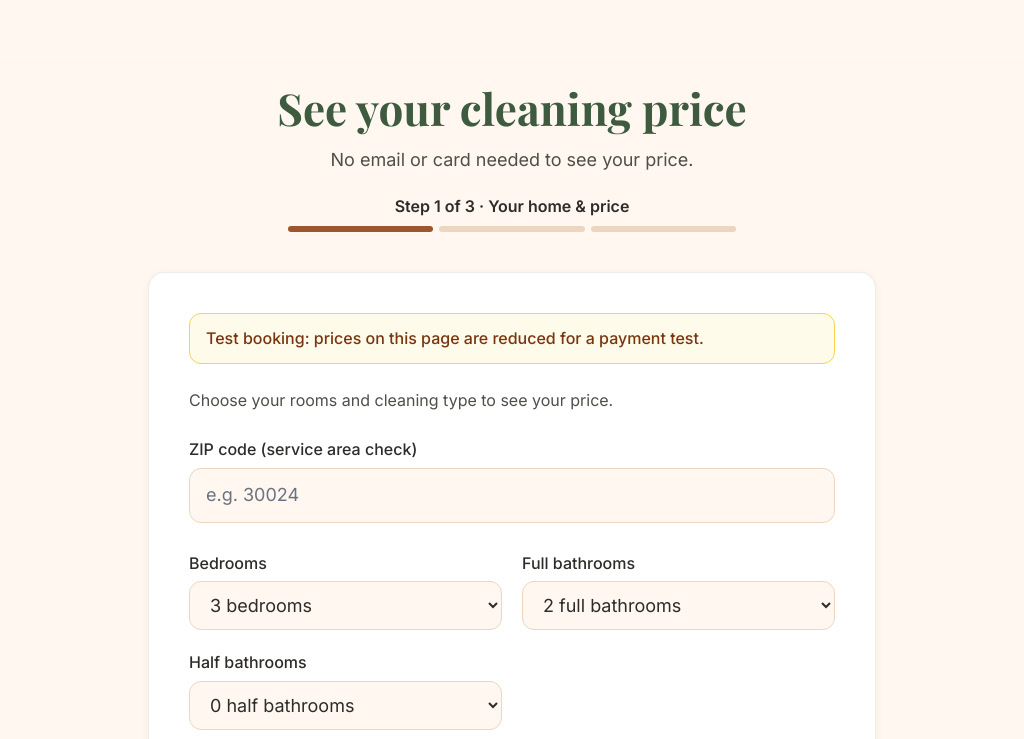
Test case: group 1(b): quote summary lines › singular home line reads '1 bedroom · 1 full bathroom'
Later steps or results of the test are not shown.
Type "30024" into the field labelled "ZIP code (service area check)" at (512, 495), box [189, 468, 835, 523]
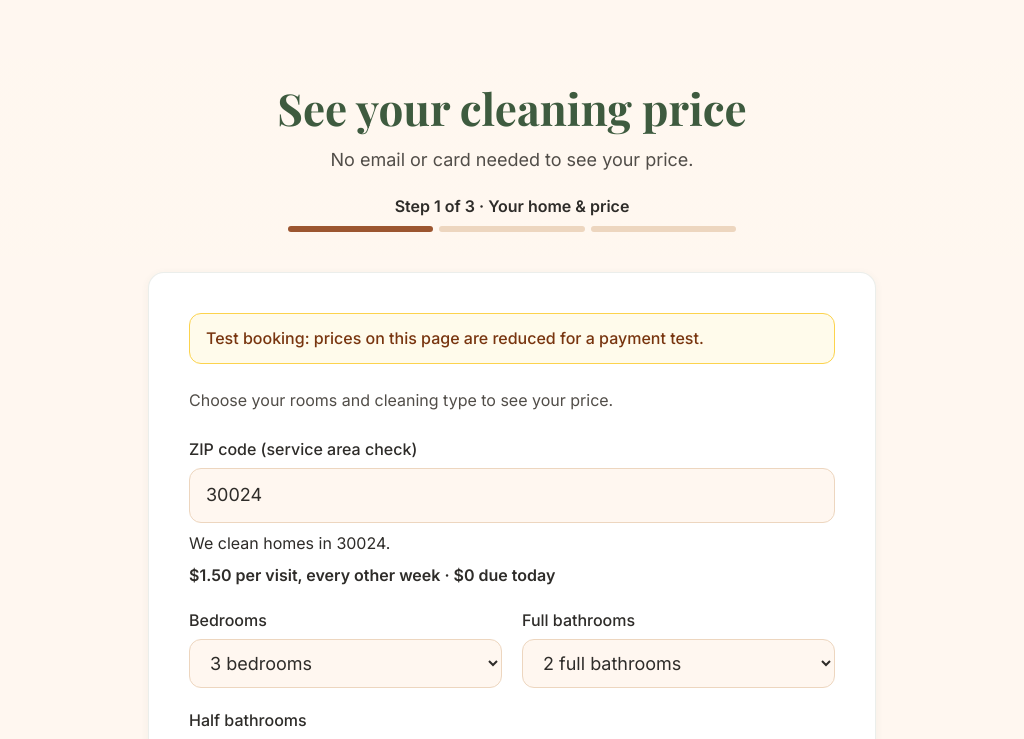
Select "1 bedroom" in the dropdown labelled "Bedrooms" at (346, 664), box [189, 639, 502, 688]
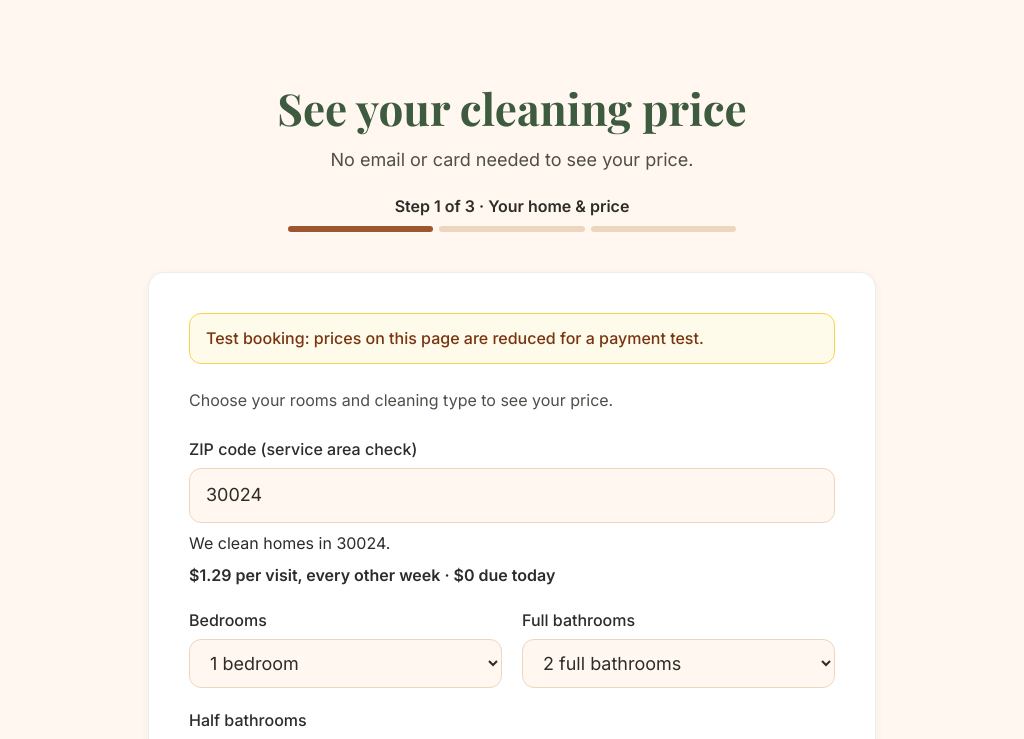
Select "1 full bathroom" in the dropdown labelled "Full bathrooms" at (678, 664), box [522, 639, 835, 688]
(page scrolled)
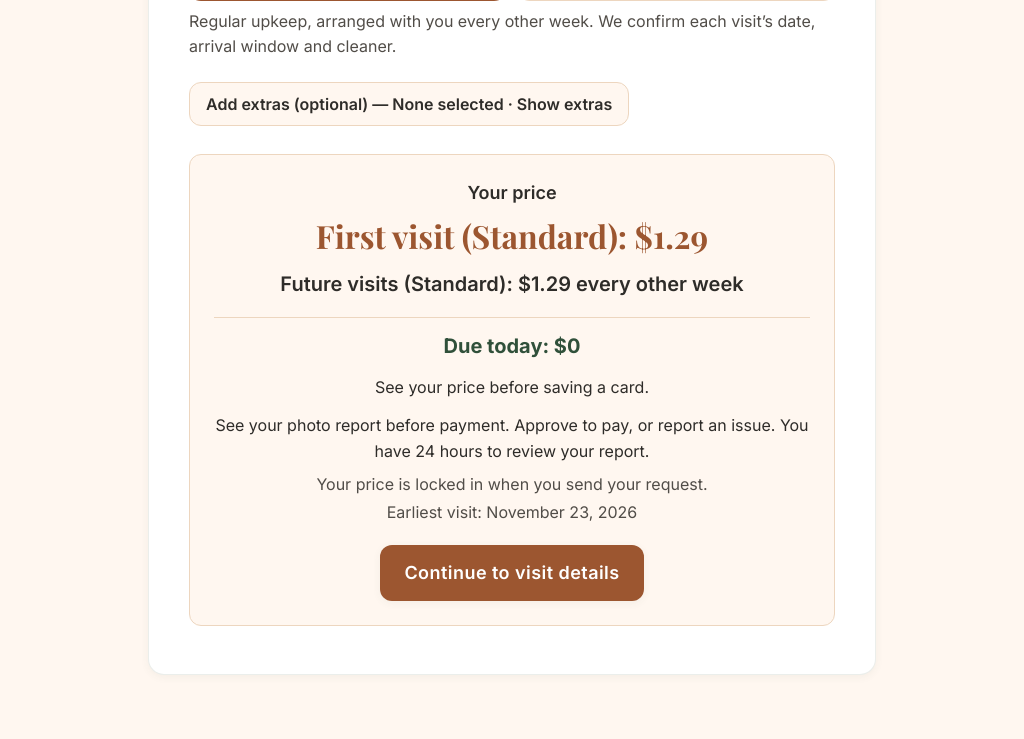
Click the button "Continue to visit details" at (512, 573), box [380, 545, 644, 601]
(page scrolled)
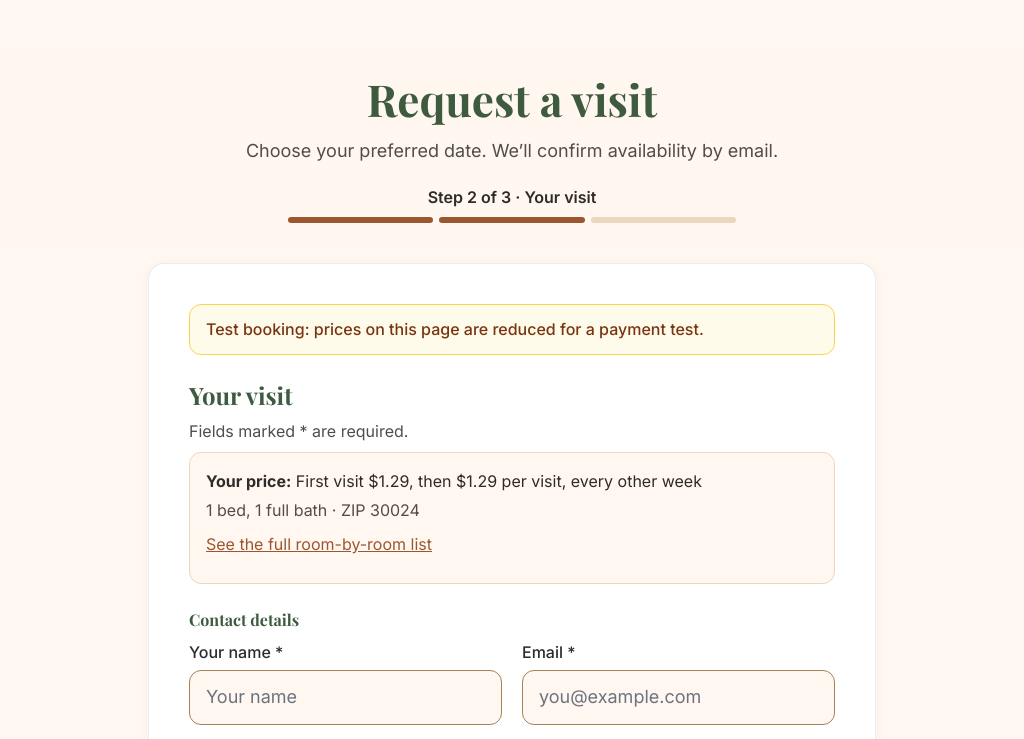
Expected: the text "1 bed, 1 full bath · ZIP 30024" is shown, [206, 500, 420, 520]
